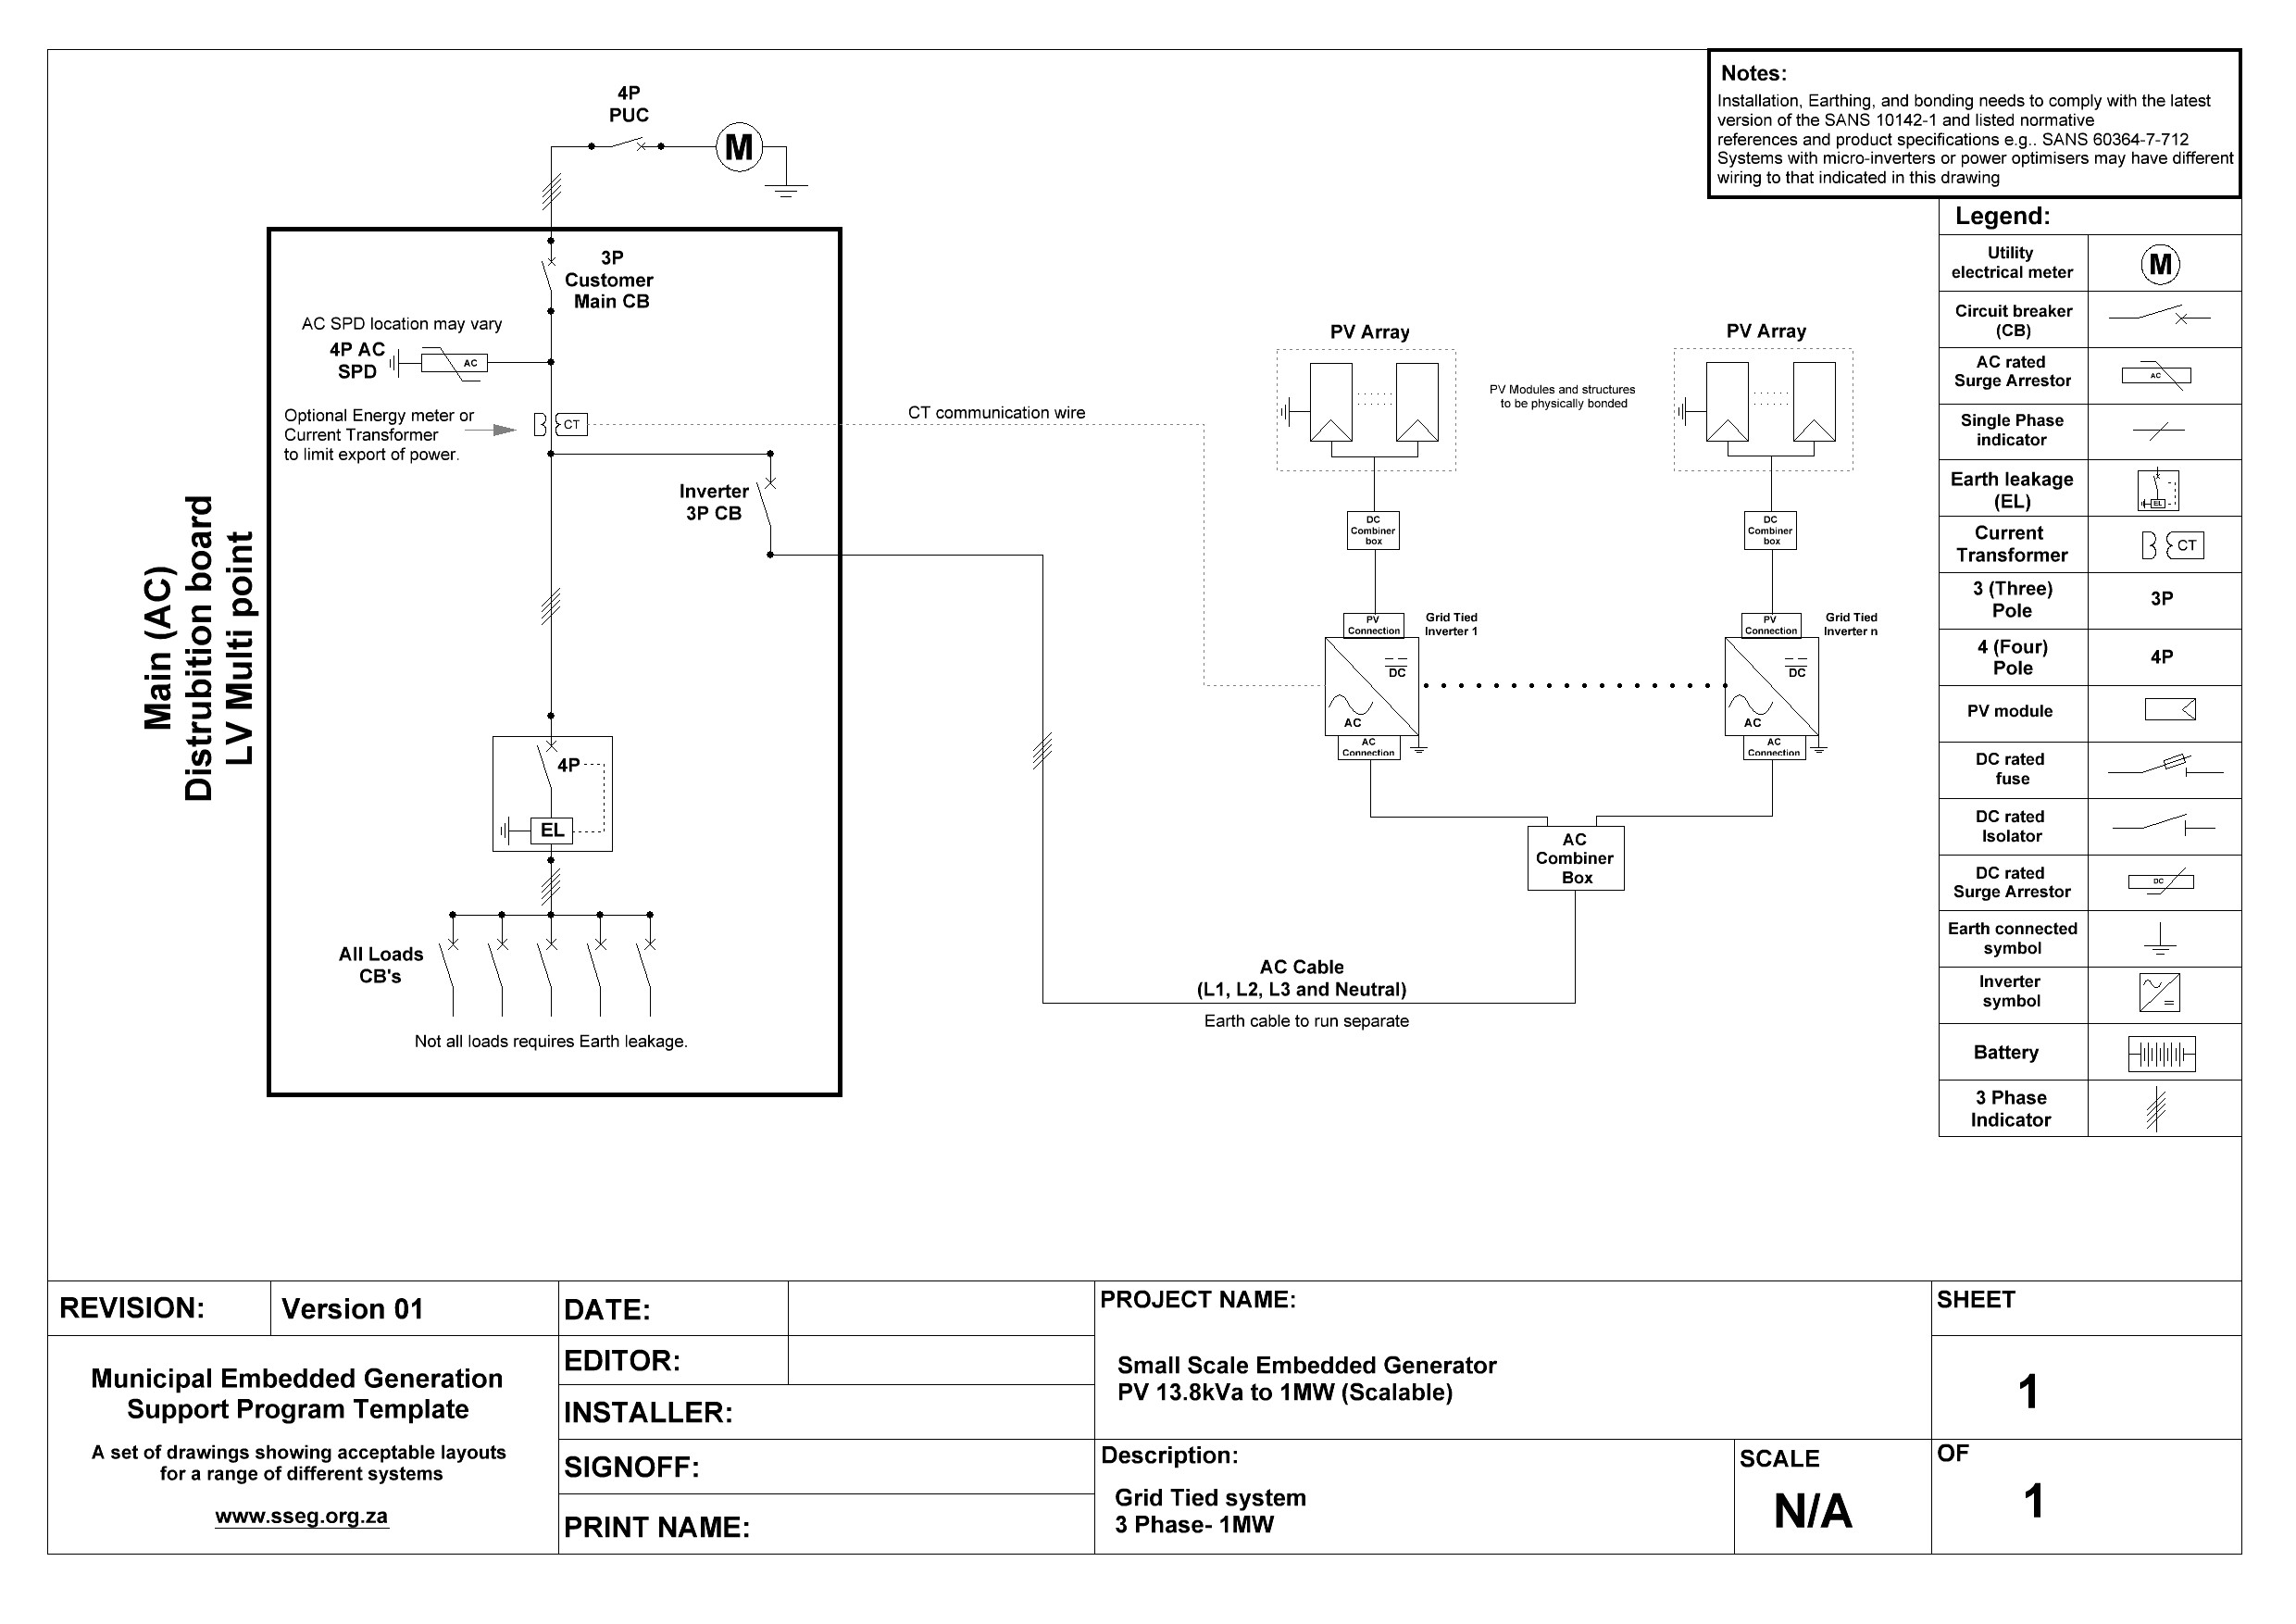ground: (1251, 374, 1298, 438), (750, 169, 822, 206), (1664, 376, 1699, 450), (367, 339, 415, 387), (480, 807, 520, 854), (1402, 731, 1449, 770), (1801, 740, 1836, 768)
switch: (736, 459, 794, 545), (624, 923, 675, 1005), (569, 932, 622, 1005), (474, 926, 527, 998), (416, 923, 471, 990), (518, 239, 571, 304), (522, 729, 576, 791), (531, 921, 567, 1005), (580, 134, 680, 160)
transformer: (513, 392, 601, 445)
